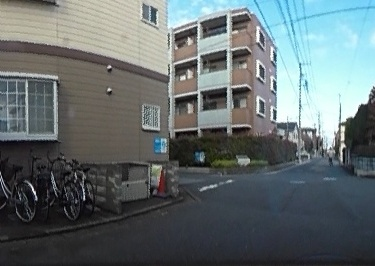person: (327, 146, 334, 163)
